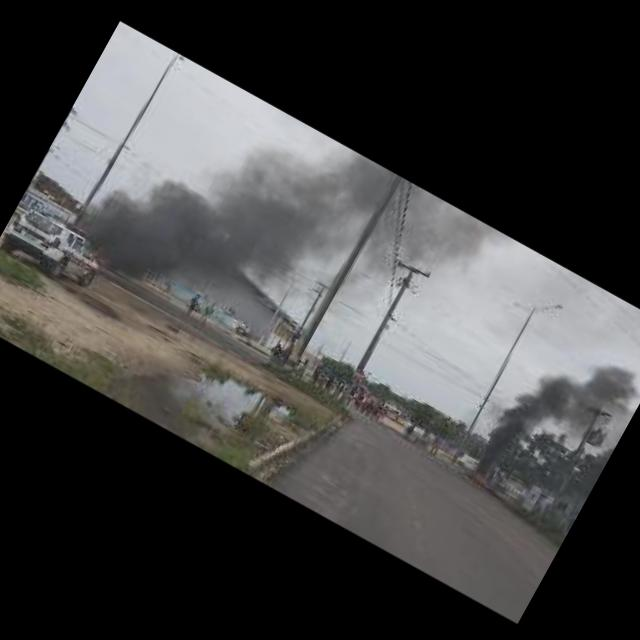fire: (476, 472, 488, 484), (89, 250, 100, 260)
smoke: (68, 80, 330, 330), (277, 146, 502, 352)
